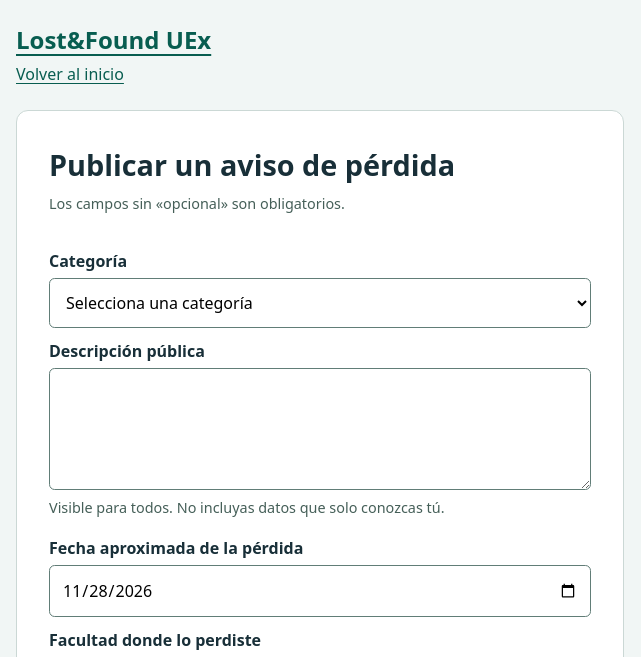
Test: AC-05/AC-08: valida los campos obligatorios y no envía un aviso incompleto
Clear the date field labelled "Fecha aproximada de la pérdida" at x=320, y=590, box [49, 564, 591, 616]
(page scrolled)
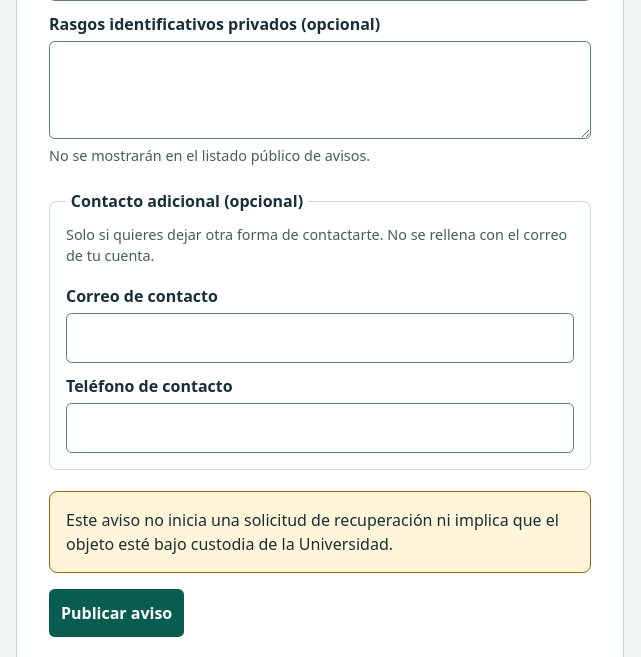
Click the button "Publicar aviso" at x=117, y=613, box [49, 589, 184, 637]
(page scrolled)
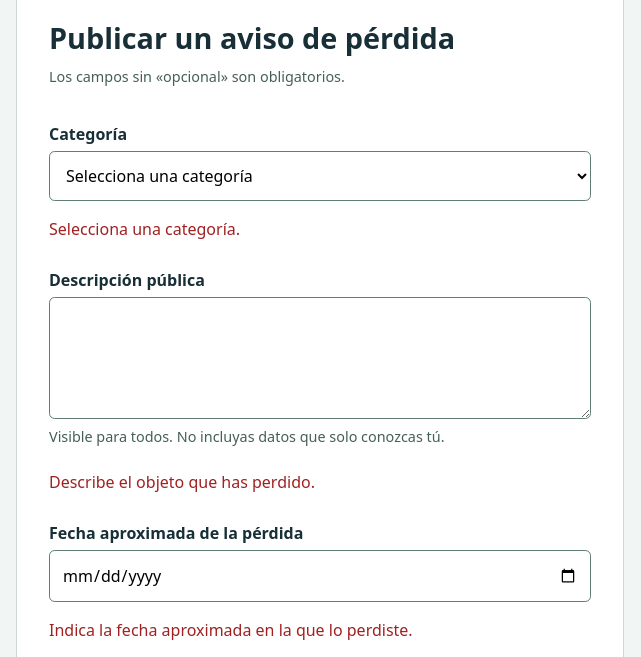
Expected: the text "Selecciona una categoría." is shown, [49, 218, 240, 240]
Expected: the text "Describe el objeto que has perdido." is shown, [49, 470, 315, 492]
Expected: the text "Indica la fecha aproximada en la que lo perdiste." is shown, [49, 618, 413, 640]
